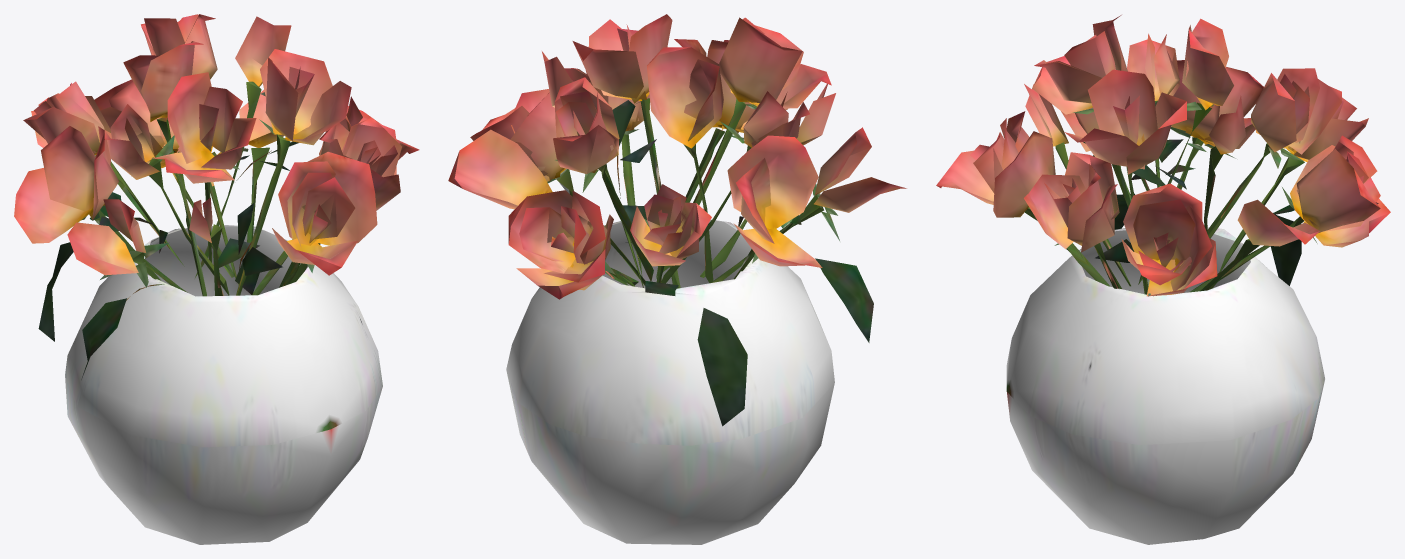
The model's file is Vase0019.obj.
3 views of the same model, side by side, from view 1: azimuth 30°, elevation 25°; view 2: azimuth 150°, elevation 25°; view 3: azimuth 270°, elevation 25° (orthographic). The views are drawn at different scales.
Size of the model in its own units: 0.256 by 0.306 by 0.27.
1 material, 1 textured.
